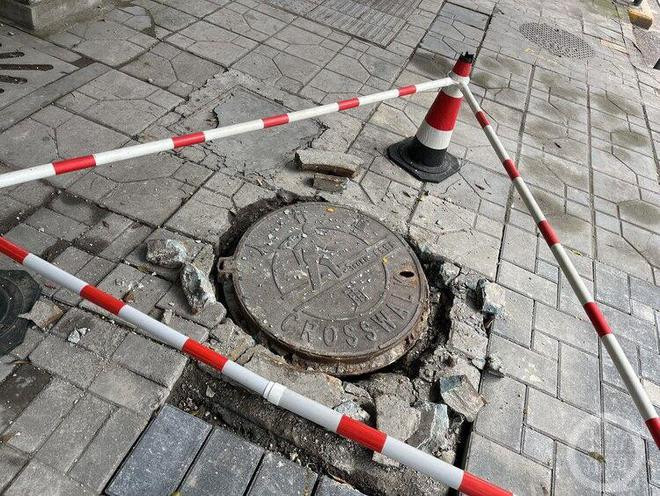circle: (163, 171, 485, 479)
